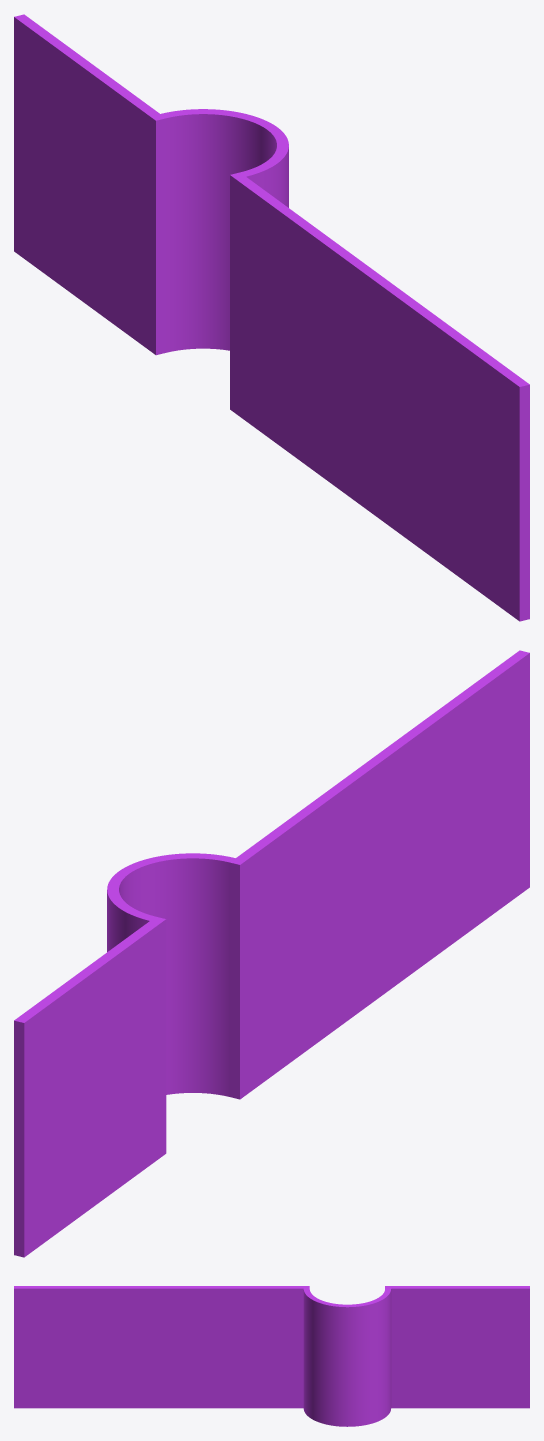
The model's file is pared-03.gltf.
3 views of the same model, one above another, from view 1: azimuth 30°, elevation 25°; view 2: azimuth 150°, elevation 25°; view 3: azimuth 270°, elevation 25° (orthographic). The views are drawn at different scales.
Visible parts, largest first — view 1: Object_17; view 2: Object_17; view 3: Object_17.
Boxes of the visible parts, left/top/right/bottom form: Object_17: left=14, top=14, right=529, bottom=621; Object_17: left=14, top=650, right=529, bottom=1257; Object_17: left=14, top=1286, right=529, bottom=1426.
Size of the model in its own units: 1.32 by 3.5 by 13.68.
